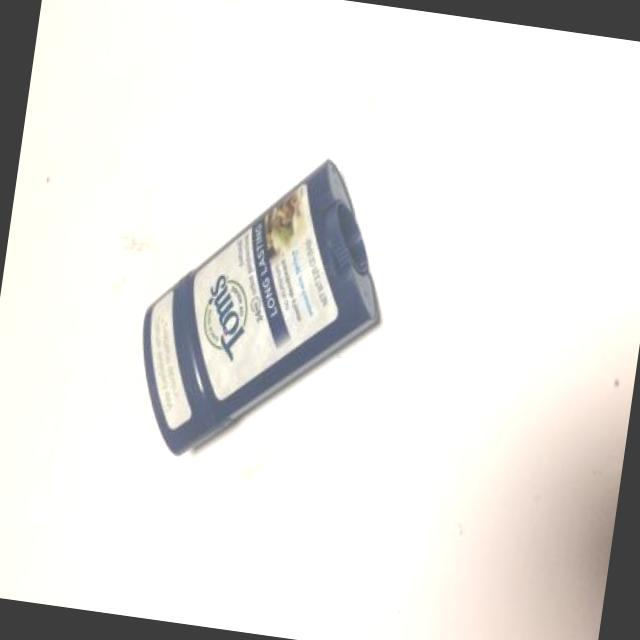Trash: (126, 112, 405, 480)
